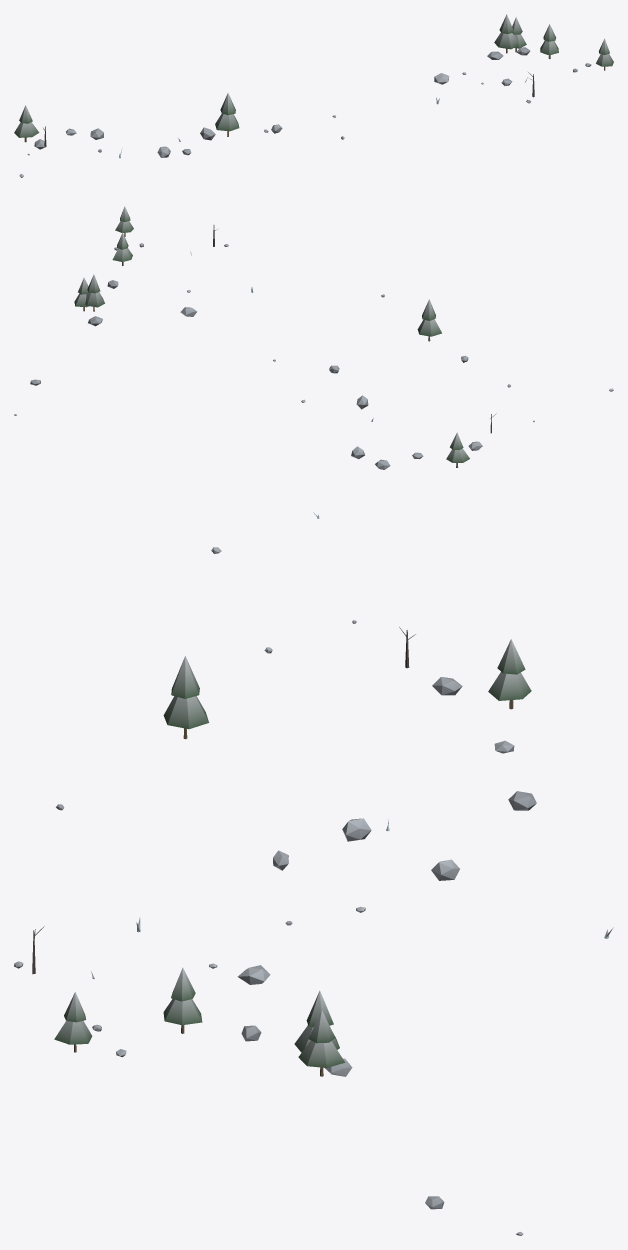
The model's file is frost_land_scatter_c18_08_lod1.glb.
3 views of the same model, one above another, from view 1: azimuth 30°, elevation 25°; view 2: azimuth 150°, elevation 25°; view 3: azimuth 270°, elevation 25° (orthographic). The views are drawn at different scales.
Parts seen in each view (by area): view 1: frost_land_scatter_c18_08_lod1; view 2: frost_land_scatter_c18_08_lod1; view 3: frost_land_scatter_c18_08_lod1.
Boxes of the visible parts, x1=… form: frost_land_scatter_c18_08_lod1: x1=14, y1=14, x2=613, y2=177; frost_land_scatter_c18_08_lod1: x1=14, y1=206, x2=613, y2=518; frost_land_scatter_c18_08_lod1: x1=14, y1=547, x2=613, y2=1235.
Size of the model in its own units: 184 by 46.9 by 91.48.
